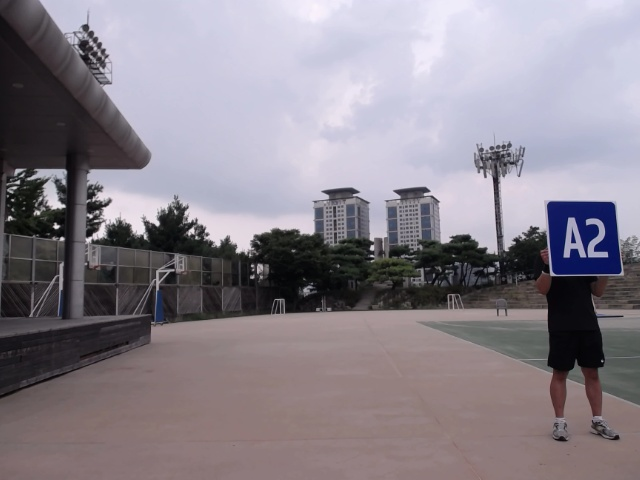delivery_a2: (546, 200, 623, 277)
